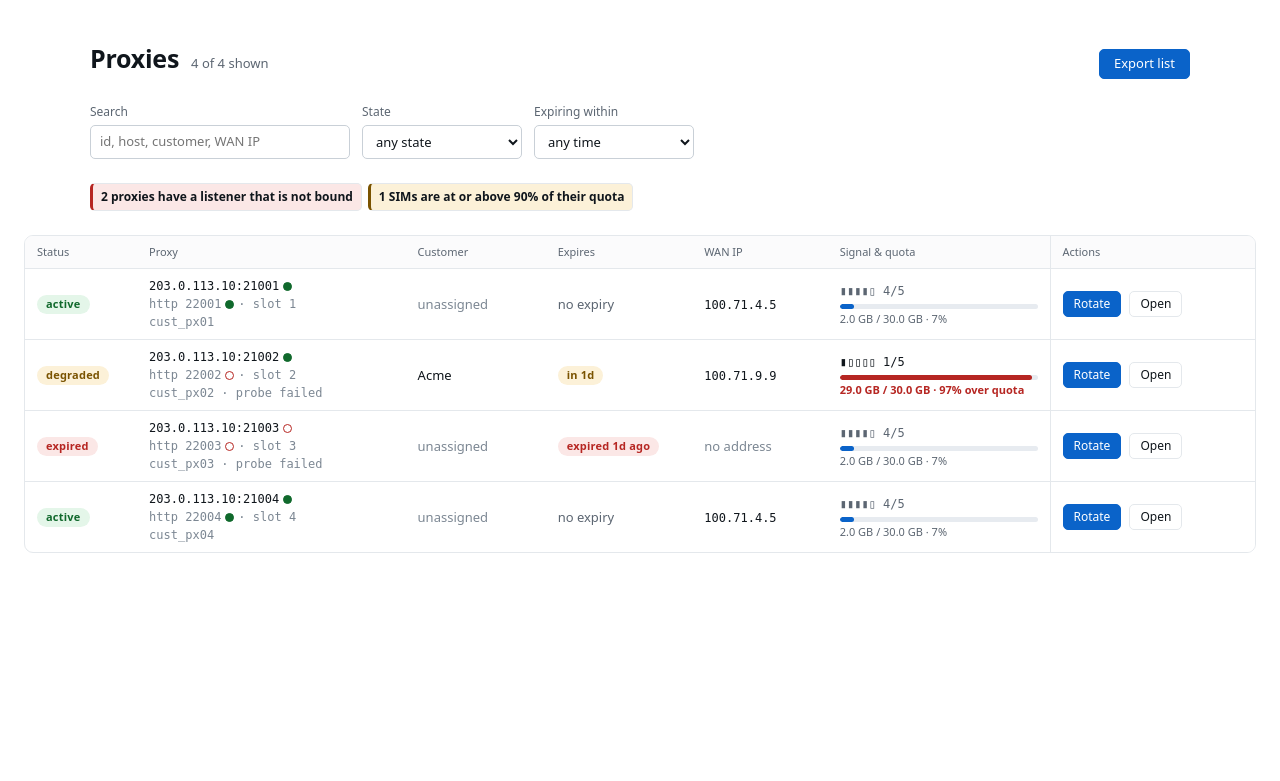
Scenario: proxies grid › opens the detail drawer from the grid
The width and height of the screenshot is (1280, 781).
Expected: the text "203.0.113.10:21001" is shown, x1=149 y1=277 x2=279 y2=295
Click the button with aria-label "Open px01".
click(1156, 304)  # box x1=1129 y1=291 x2=1182 y2=317
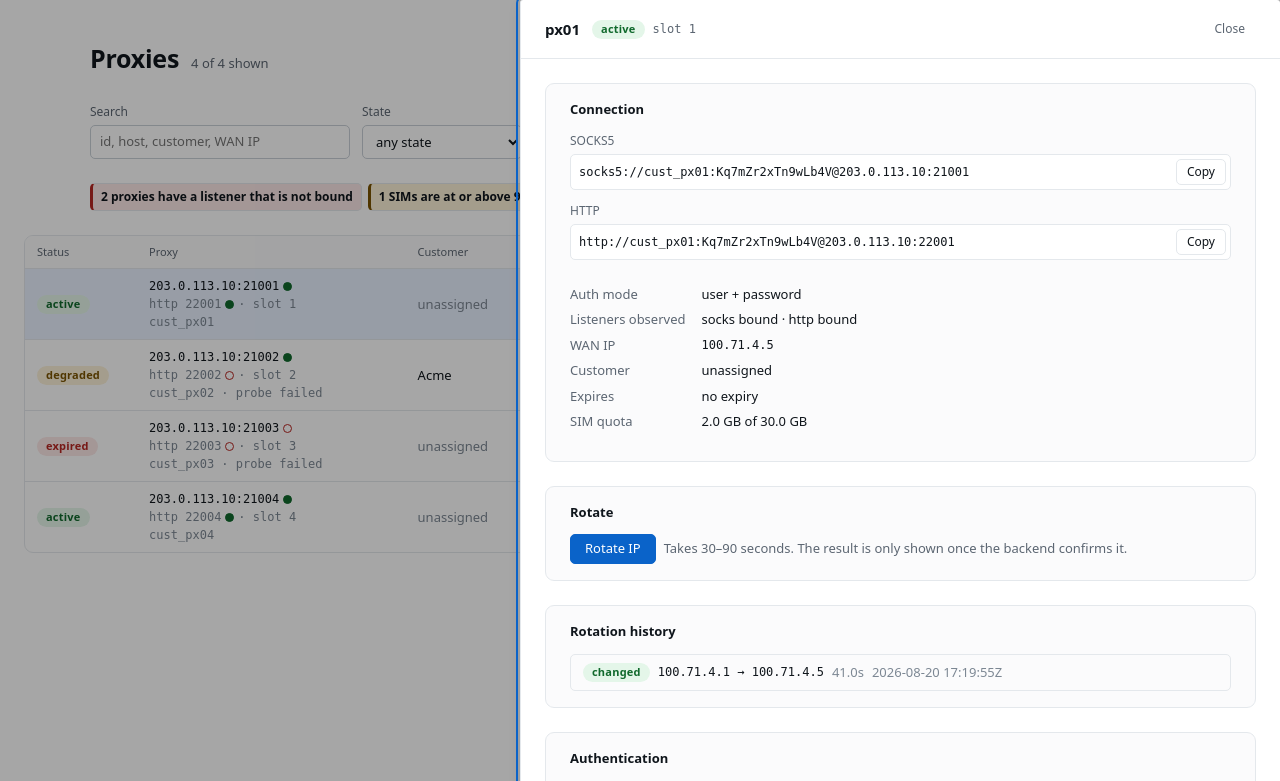
Expected: the text "SOCKS5" is shown, x1=570 y1=132 x2=614 y2=148
Expected: the text "socks5://cust_px01:Kq7mZr2xTn9wLb4V@203.0.113.10:21001" is shown, x1=579 y1=164 x2=969 y2=178
